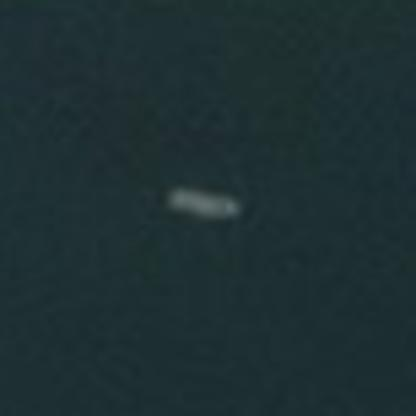ship: (152, 179, 257, 226)
